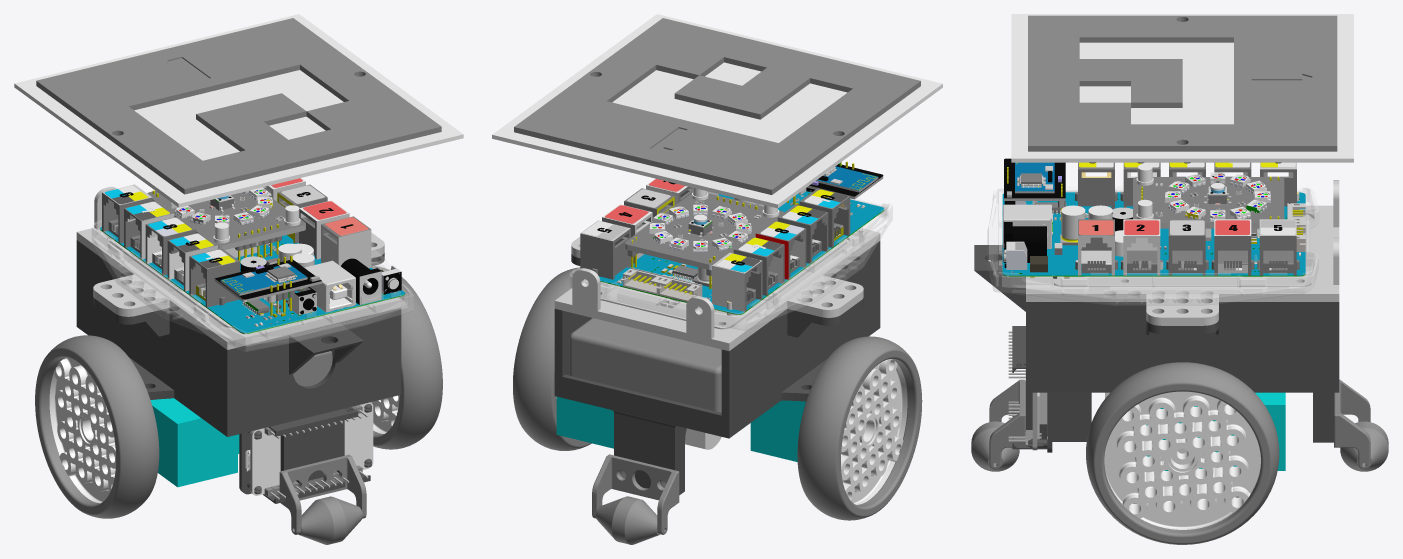
The model's file is robot22-revision.glb.
3 views of the same model, side by side, from view 1: azimuth 30°, elevation 25°; view 2: azimuth 150°, elevation 25°; view 3: azimuth 270°, elevation 25° (orthographic). The views are drawn at different scales.
Parts seen in each view (by area): view 1: arucoMarker-1, AurigaBoard-1, Frame-1, Tire 90T B.step-2, Base_raspi-1, Plastic Timing Pulley 90T For Motor.step-1, Tire 90T B.step-1, motor-4, caster wheel-2, HiLetgo ESP8266.STEP-1, caseESP-1, batery-1 (+2 smaller); view 2: arucoMarker-1, AurigaBoard-1, Frame-1, Base_raspi-1, Tire 90T B.step-2, batery-1, Plastic Timing Pulley 90T For Motor.step-1, Tire 90T B.step-1, caster wheel-1, motor-1, motor-4; view 3: arucoMarker-1, AurigaBoard-1, Frame-1, Plastic Timing Pulley 90T For Motor.step-2, Base_raspi-1, Tire 90T B.step-1, caster wheel-1, caseESP-1, caster wheel-2, motor-1, HiLetgo ESP8266.STEP-1.
Part boxes in pixels (<box>): arucoMarker-1: <box>14,14,463,207</box>; AurigaBoard-1: <box>92,178,413,351</box>; Frame-1: <box>76,240,401,487</box>; Tire 90T B.step-2: <box>35,335,159,518</box>; Base_raspi-1: <box>76,186,401,349</box>; Plastic Timing Pulley 90T For Motor.step-1: <box>49,357,115,503</box>; Tire 90T B.step-1: <box>371,266,442,449</box>; motor-4: <box>150,398,239,487</box>; caster wheel-2: <box>279,454,366,544</box>; HiLetgo ESP8266.STEP-1: <box>250,402,373,495</box>; caseESP-1: <box>239,404,371,503</box>; batery-1: <box>293,351,332,386</box>; arucoMarker-1: <box>492,14,942,208</box>; AurigaBoard-1: <box>570,161,892,330</box>; Frame-1: <box>554,241,880,495</box>; Base_raspi-1: <box>554,228,880,350</box>; Tire 90T B.step-2: <box>797,336,922,520</box>; batery-1: <box>569,318,721,412</box>; Plastic Timing Pulley 90T For Motor.step-1: <box>841,359,907,504</box>; Tire 90T B.step-1: <box>513,267,591,450</box>; caster wheel-1: <box>592,454,679,544</box>; motor-1: <box>556,396,721,449</box>; motor-4: <box>750,400,805,461</box>; arucoMarker-1: <box>1011,14,1353,162</box>; AurigaBoard-1: <box>987,158,1318,305</box>; Frame-1: <box>974,245,1339,442</box>; Plastic Timing Pulley 90T For Motor.step-2: <box>1104,391,1260,529</box>; Base_raspi-1: <box>1026,180,1339,325</box>; Tire 90T B.step-1: <box>1086,362,1279,544</box>; caster wheel-1: <box>1334,379,1388,471</box>; caseESP-1: <box>1012,326,1091,452</box>; caster wheel-2: <box>971,379,1025,471</box>; motor-1: <box>1146,392,1285,470</box>; HiLetgo ESP8266.STEP-1: <box>1032,392,1047,450</box>.
Size of the model in its own units: 0.1283 by 0.1415 by 0.1377.
